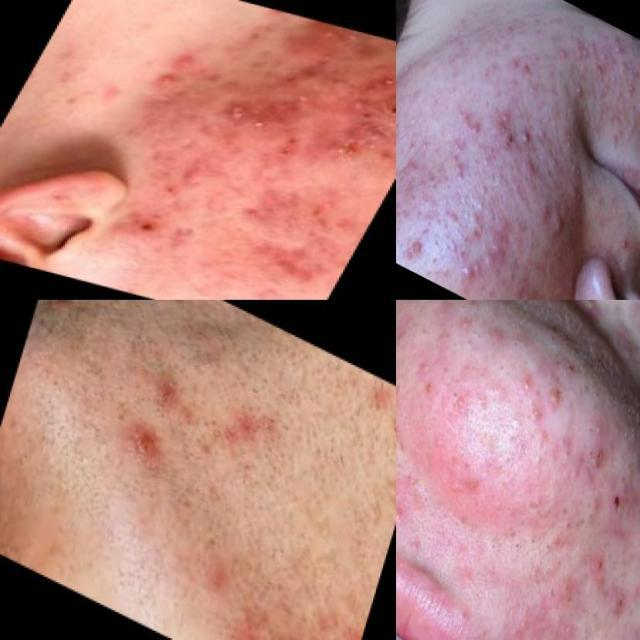Pimples: (272, 15, 364, 76), (438, 450, 492, 516), (326, 116, 396, 166), (120, 414, 173, 476), (262, 252, 326, 296), (434, 372, 482, 429), (540, 570, 586, 626), (478, 210, 515, 272), (544, 422, 584, 470), (490, 100, 524, 154), (399, 224, 436, 273), (495, 399, 533, 442), (566, 24, 601, 67), (582, 442, 614, 487), (607, 222, 640, 265), (146, 64, 186, 98), (546, 199, 574, 247), (455, 104, 486, 146), (443, 142, 473, 185), (582, 408, 612, 451), (603, 584, 635, 624), (538, 380, 570, 418), (452, 303, 482, 343), (512, 367, 544, 404), (562, 151, 592, 190), (566, 72, 596, 110), (409, 348, 439, 386), (584, 546, 612, 584), (572, 501, 600, 537), (549, 494, 577, 528), (514, 120, 540, 156), (519, 148, 544, 185), (605, 29, 633, 62), (396, 318, 416, 360), (606, 107, 632, 138), (460, 253, 483, 287), (396, 494, 416, 532), (554, 512, 580, 541), (574, 300, 603, 322), (620, 74, 640, 102), (491, 356, 511, 381), (506, 532, 526, 556), (525, 526, 543, 552), (396, 376, 408, 414), (541, 536, 558, 558)
